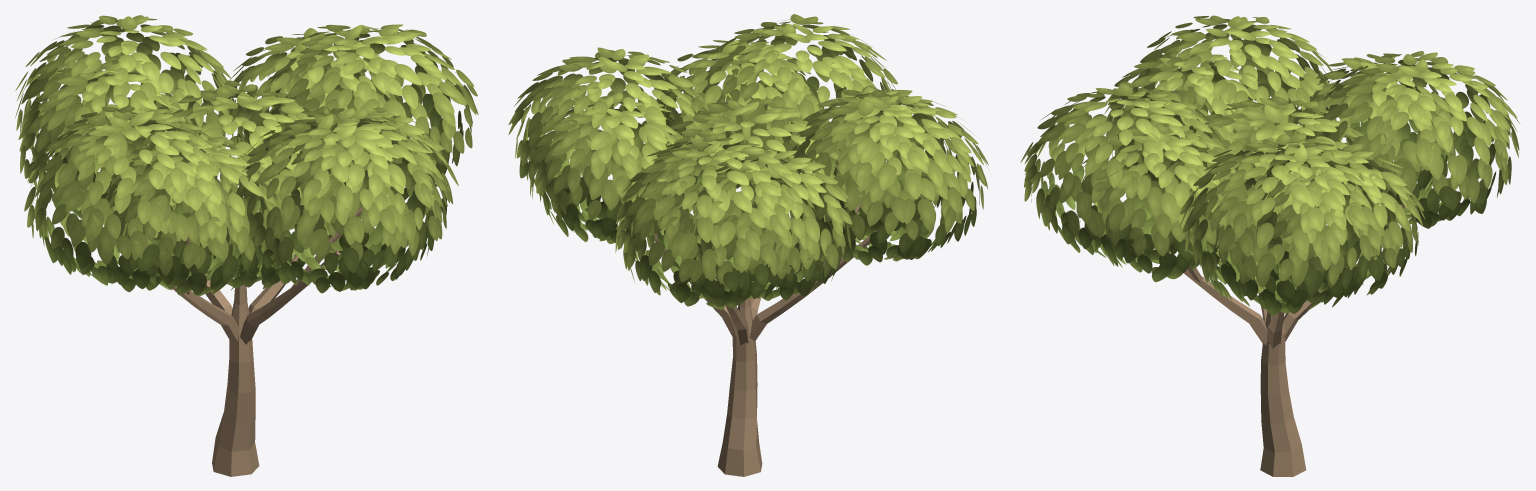
File: street_broad.glb
The picture shows the model from 3 angles, left to right: view 1: azimuth 30°, elevation 25°; view 2: azimuth 150°, elevation 25°; view 3: azimuth 270°, elevation 25°; orthographic projection. The views are drawn at different scales.
Visible parts, largest first — view 1: foliage, trunk; view 2: foliage, trunk; view 3: foliage, trunk.
Part boxes in pixels (x1,y1,x2,y2): foliage: [15, 15, 478, 296]; trunk: [172, 206, 363, 476]; foliage: [508, 14, 988, 309]; trunk: [654, 191, 877, 476]; foliage: [1020, 15, 1520, 315]; trunk: [1141, 204, 1404, 476].
Size of the model in its own units: 4.12 by 3.51 by 4.11.
Materials: 3 (2 with a texture image).
